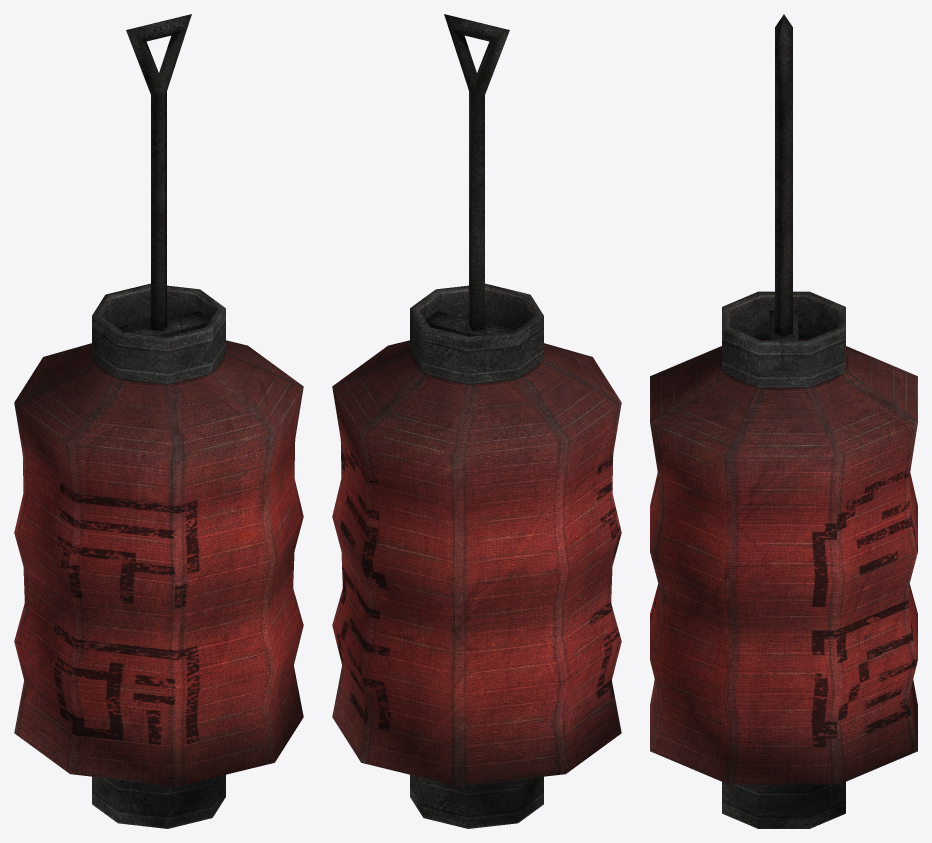
The model's file is SM_Paperlantern.FBX.
The picture shows the model from 3 angles, left to right: view 1: azimuth 30°, elevation 25°; view 2: azimuth 150°, elevation 25°; view 3: azimuth 270°, elevation 25°; orthographic projection.
Parts seen in each view (by area): view 1: SM_Paperlantern; view 2: SM_Paperlantern; view 3: SM_Paperlantern.
Part boxes in pixels (x1,y1,x2,y2): SM_Paperlantern: (14,14,303,828); SM_Paperlantern: (332,14,621,828); SM_Paperlantern: (650,14,917,828).
Bounding box in the file's own units: 28.97 × 28.97 × 92.26.
